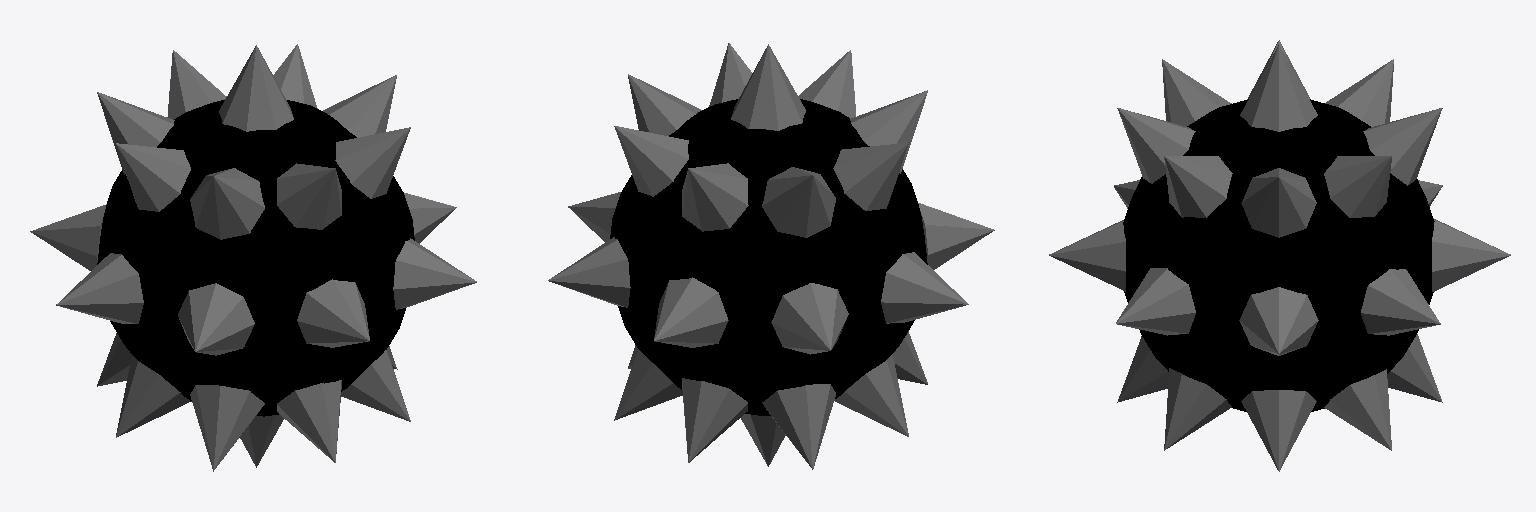
3 renders of one model, left to right at view 1: azimuth 30°, elevation 25°; view 2: azimuth 150°, elevation 25°; view 3: azimuth 270°, elevation 25°, orthographic.
Parts seen in each view (by area): view 1: Base; view 2: Base; view 3: Base.
Boxes of the visible parts, x1,y1,x2,y2 form: Base: [30, 44, 476, 471]; Base: [548, 43, 994, 469]; Base: [1049, 40, 1510, 471].
Size of the model in its own units: 14.44 by 14.55 by 14.44.
1 materials, 1 textured.